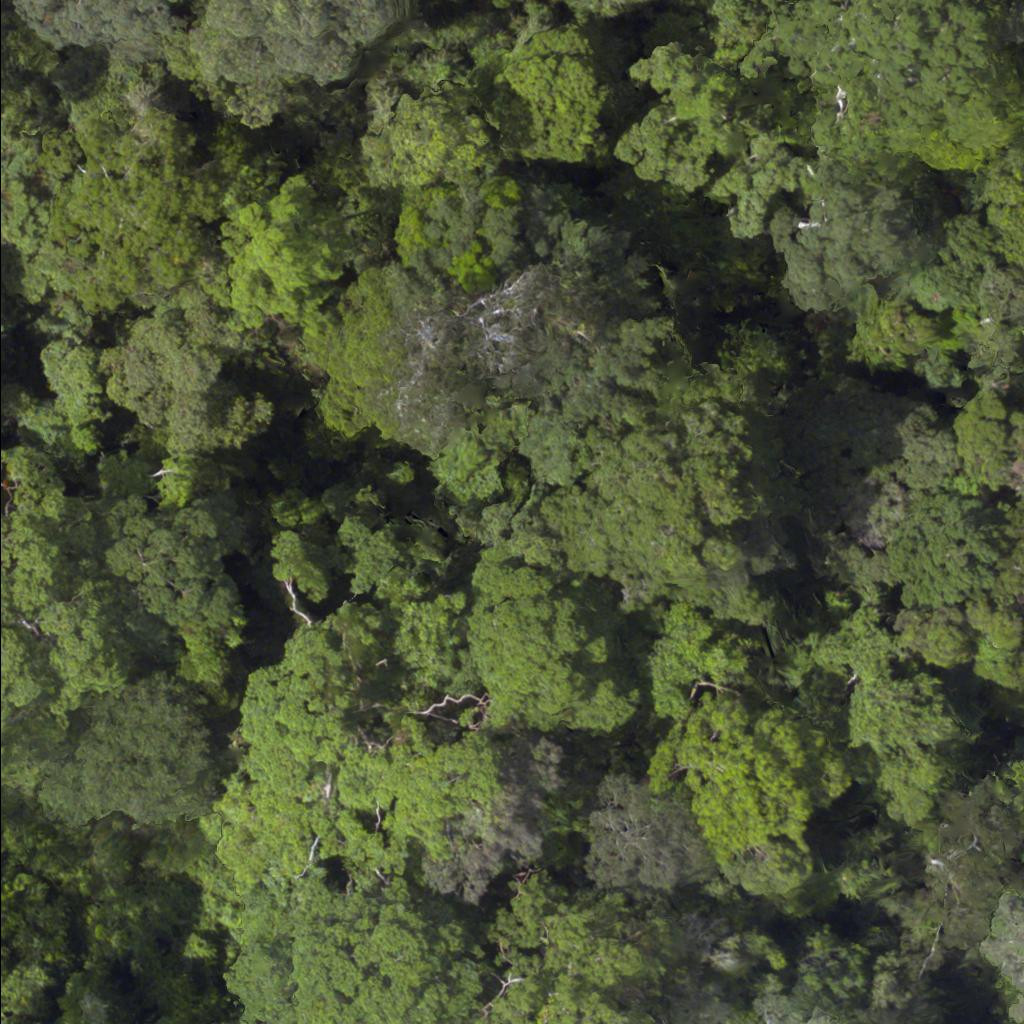crown: (0, 468, 119, 797), (225, 885, 492, 1023), (199, 0, 400, 118), (47, 681, 204, 816), (119, 512, 227, 634), (582, 774, 694, 890), (24, 0, 162, 48), (211, 1023, 214, 1023)
